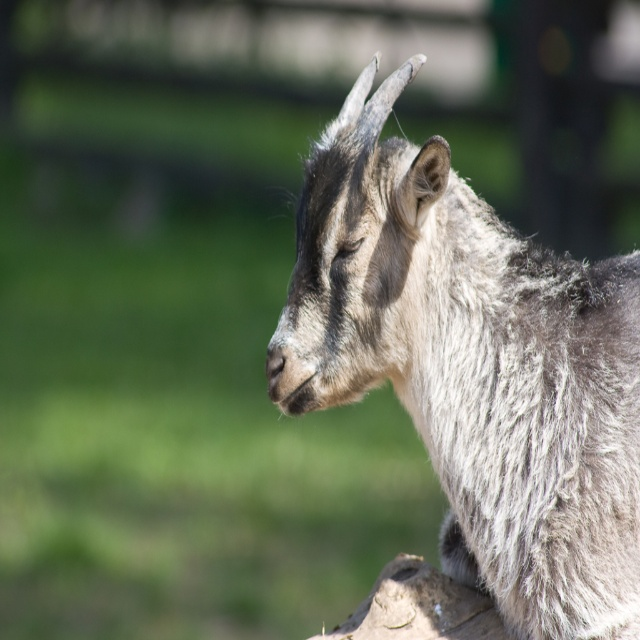Goat: (271, 24, 640, 628)
